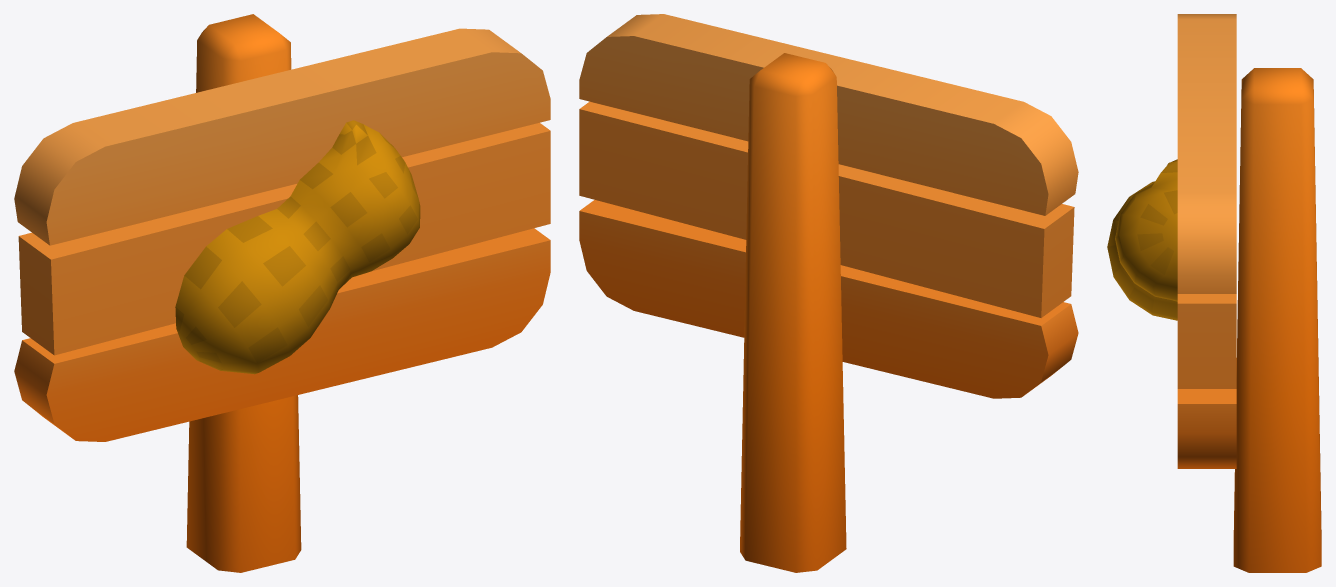
The model's file is Farm_Crop_Sign_Peanut_01.fbx.
3 renders of one model, left to right at view 1: azimuth 30°, elevation 25°; view 2: azimuth 150°, elevation 25°; view 3: azimuth 270°, elevation 25°, orthographic. The views are drawn at different scales.
Visible parts, largest first — view 1: Farm_Crop_Sign_Peanut_01; view 2: Farm_Crop_Sign_Peanut_01; view 3: Farm_Crop_Sign_Peanut_01.
Boxes of the visible parts, x1,y1,x2,y2 form: Farm_Crop_Sign_Peanut_01: (14, 14, 550, 572); Farm_Crop_Sign_Peanut_01: (579, 14, 1078, 572); Farm_Crop_Sign_Peanut_01: (1107, 14, 1321, 572).
Bounding box in the file's own units: 90.11 × 88.8 × 36.23.
